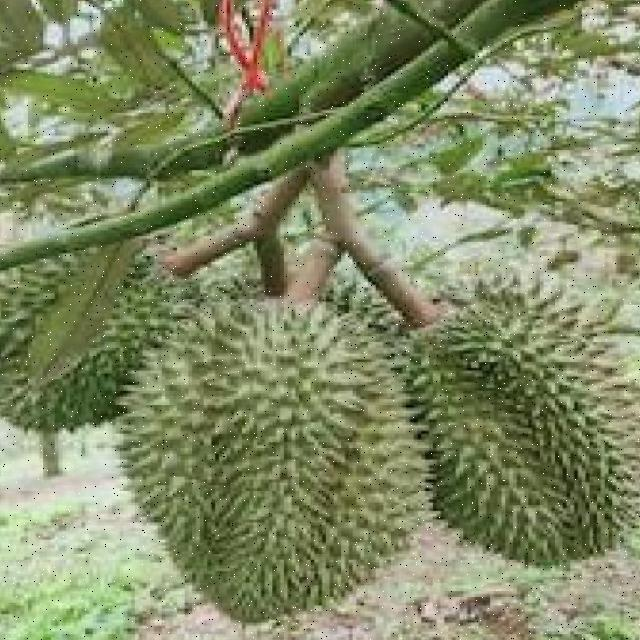UNRIPE: (121, 300, 427, 622), (404, 272, 640, 569)
